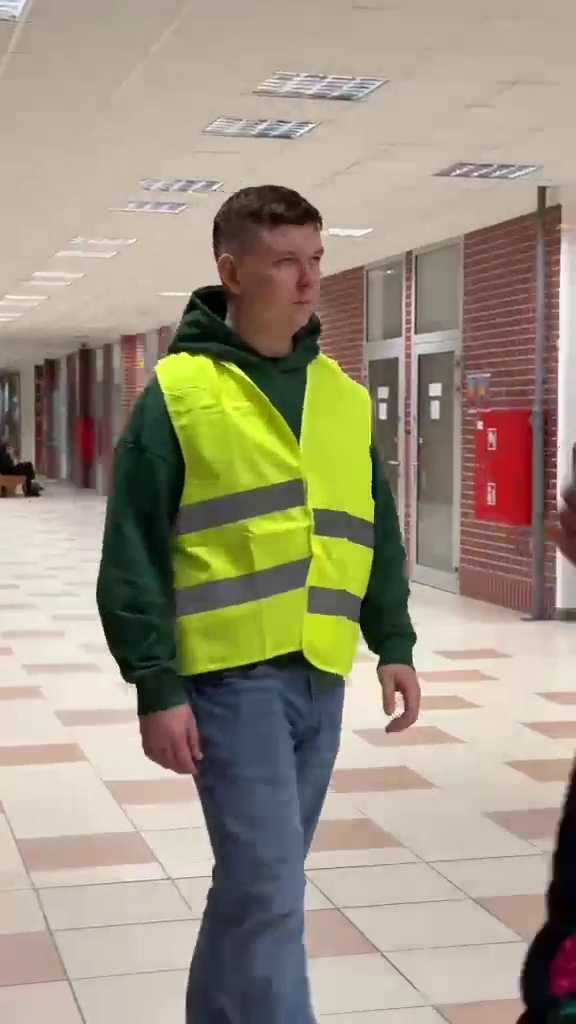vest: (99, 189, 426, 1003)
